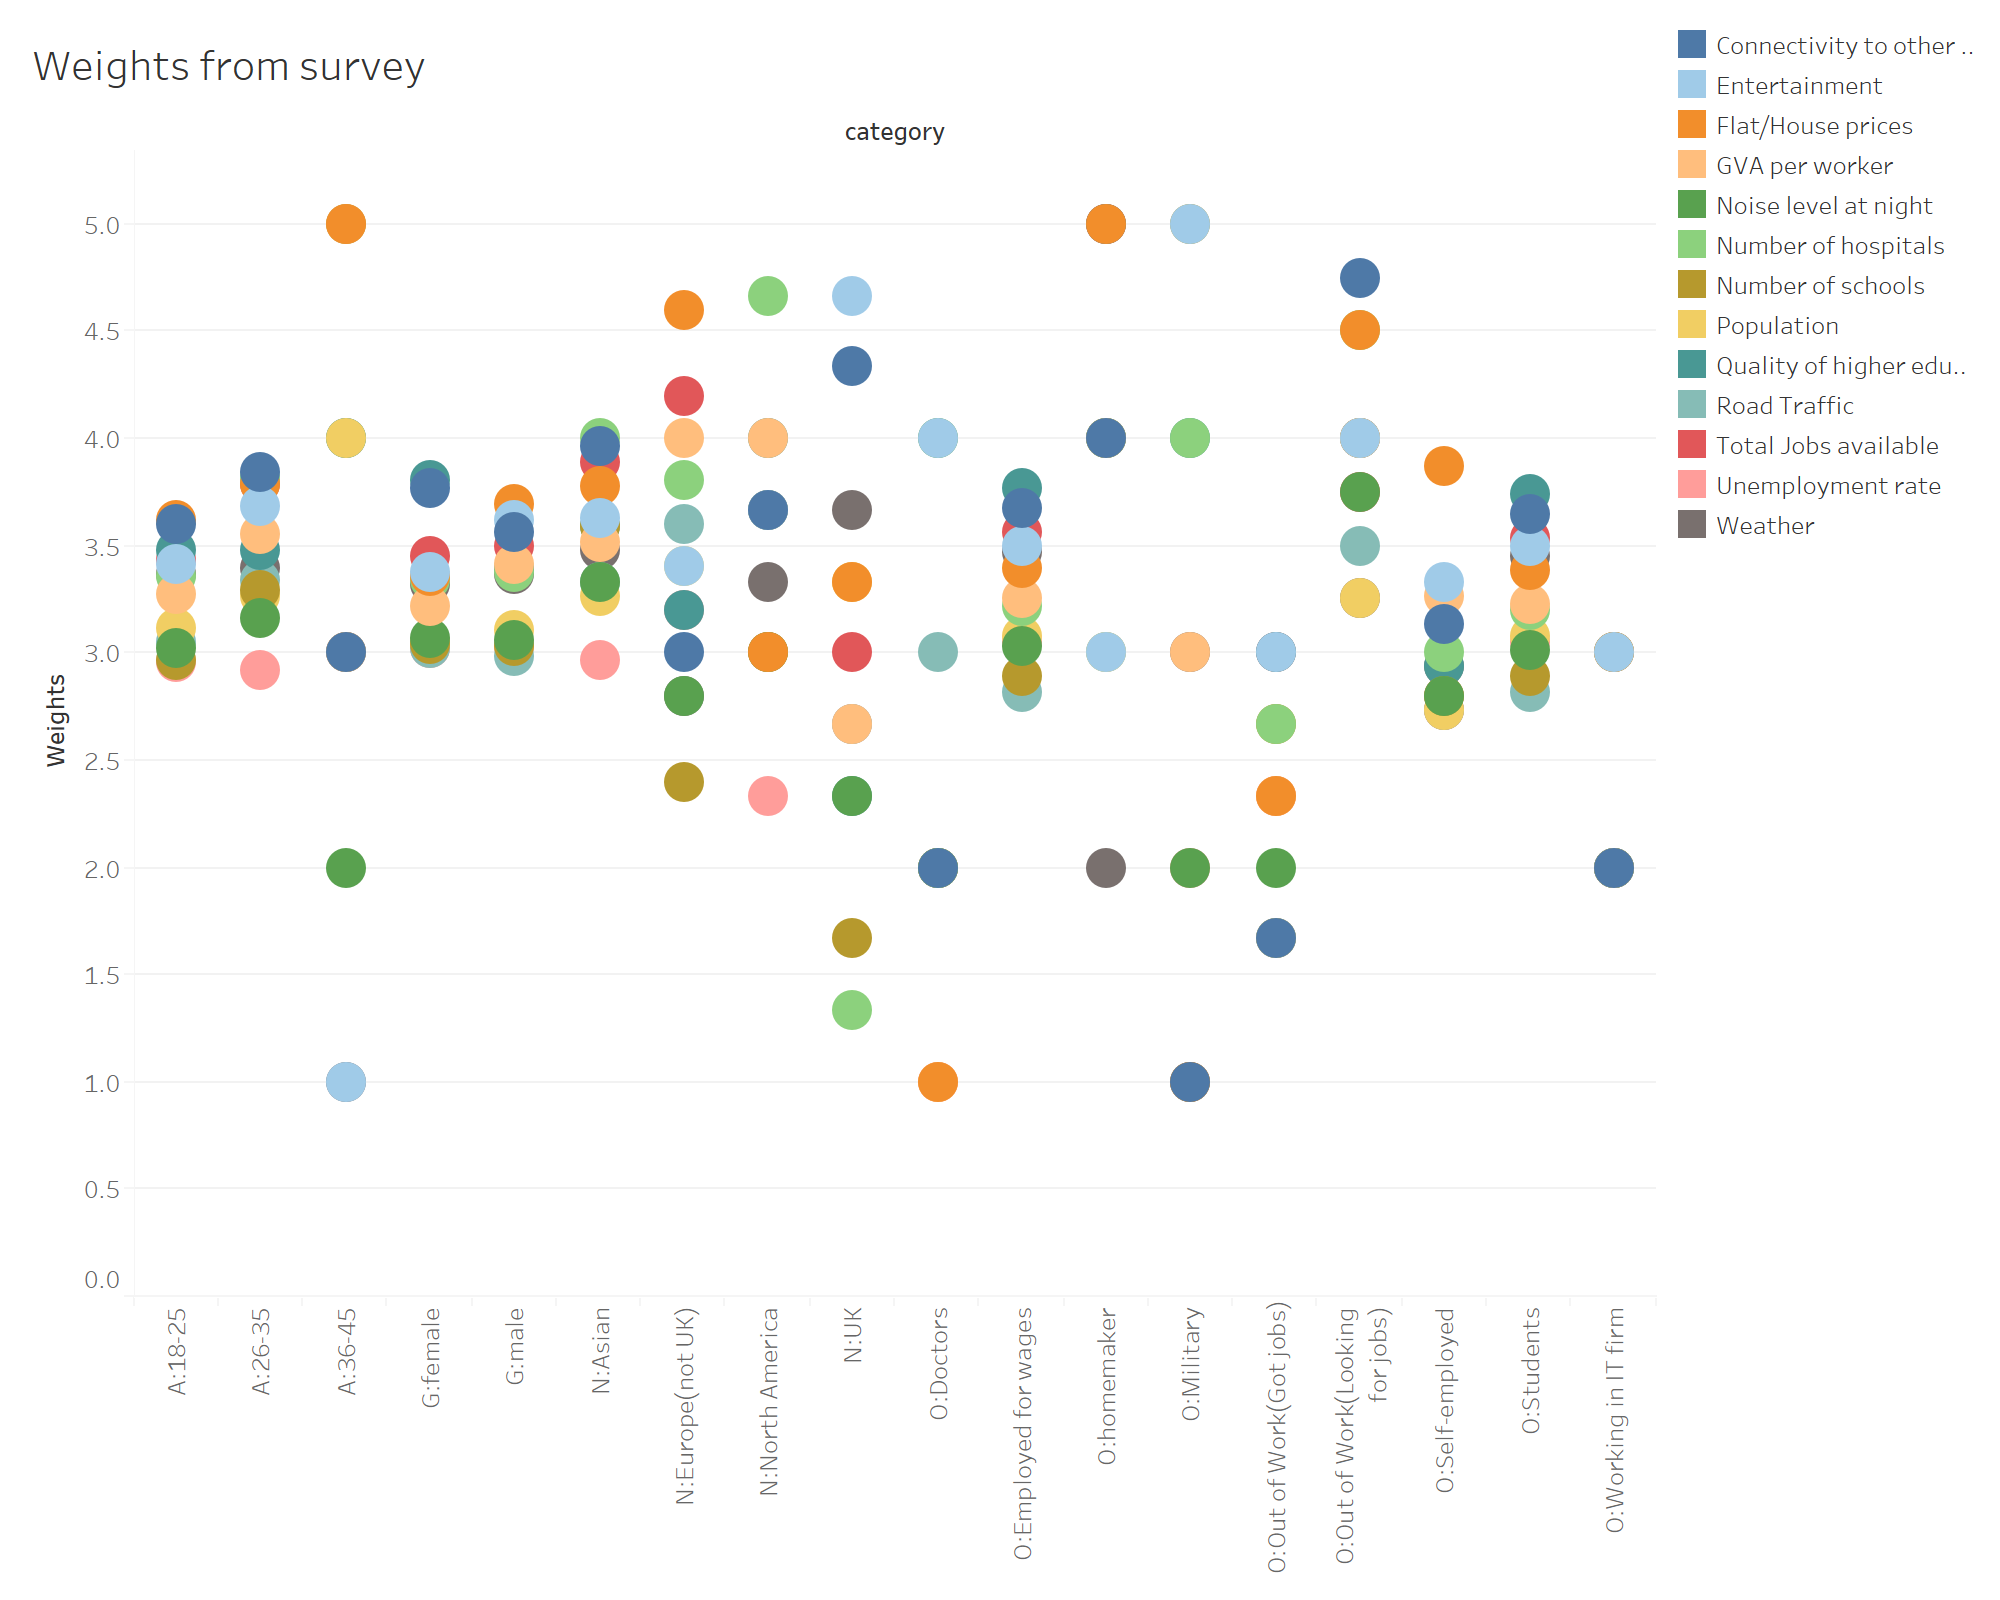

This screenshot's page, from the dashboard's own definition file:
{"tool":"tableau","page":{"name":"仪表板 1","canvas":[1000,800],"ordinal":0},"visuals":[{"type":"worksheet","title":"工作表 1","mark":"Circle","cols":["F1"],"box":[8,8,824,784]},{"type":"legend","title":"工作表 1","param":"[federated.15uxwhc02p60sk10gyvk80r2fkyh].[:Measure Names]","box":[832,8,160,286]}]}

Visuals, with their boxes in screenshot pixels (x1, y1, x2, y2), scaled from the page's 1000x800 canvas onto the 2000x1600 screenshot:
"工作表 1" worksheet (Circle marks): x1=16, y1=16, x2=1664, y2=1584
"工作表 1" legend: x1=1664, y1=16, x2=1984, y2=588
